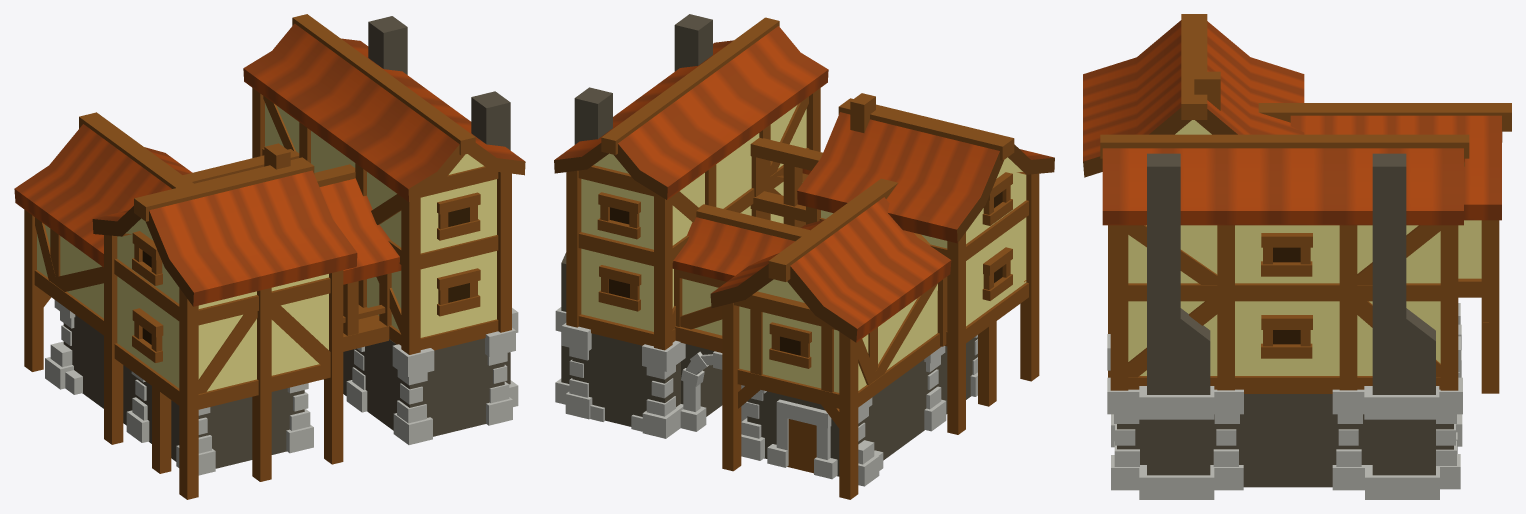
The model's file is manorhouse.fbx.
The picture shows the model from 3 angles, left to right: view 1: azimuth 30°, elevation 25°; view 2: azimuth 150°, elevation 25°; view 3: azimuth 270°, elevation 25°; orthographic projection. The views are drawn at different scales.
Parts seen in each view (by area): view 1: polySurface11; view 2: polySurface11; view 3: polySurface11.
Part boxes in pixels (x1,y1,x2,y2): polySurface11: (14, 14, 525, 499); polySurface11: (554, 14, 1054, 499); polySurface11: (1083, 14, 1511, 499).
Bounding box in the file's own units: 223 × 183 × 214.
Materials: 1 (1 with a texture image).
